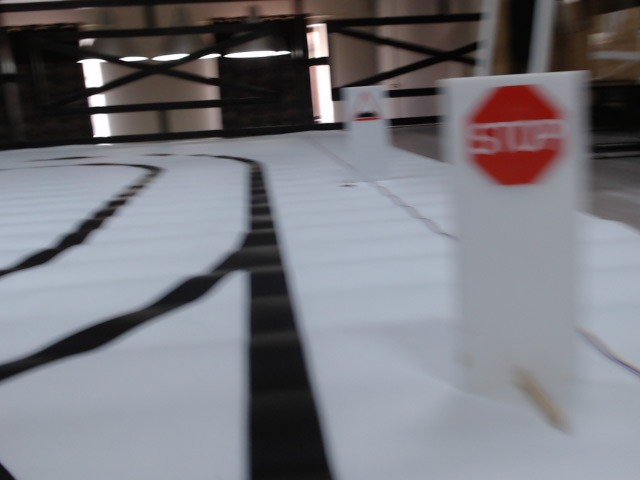Stop: (467, 85, 567, 185)
